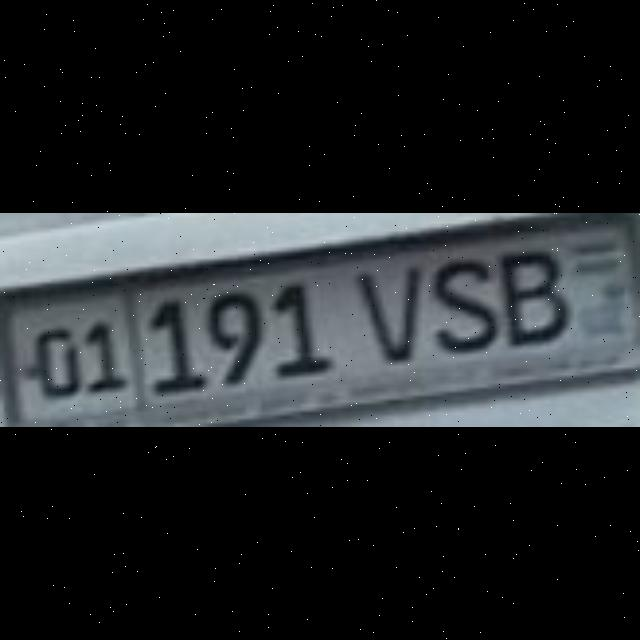0: (28, 322, 70, 392)
1: (144, 295, 203, 393), (270, 283, 328, 373), (78, 318, 122, 392)
9: (202, 291, 262, 385)
B: (496, 248, 562, 342)
S: (429, 256, 491, 350)
V: (351, 264, 417, 362)
